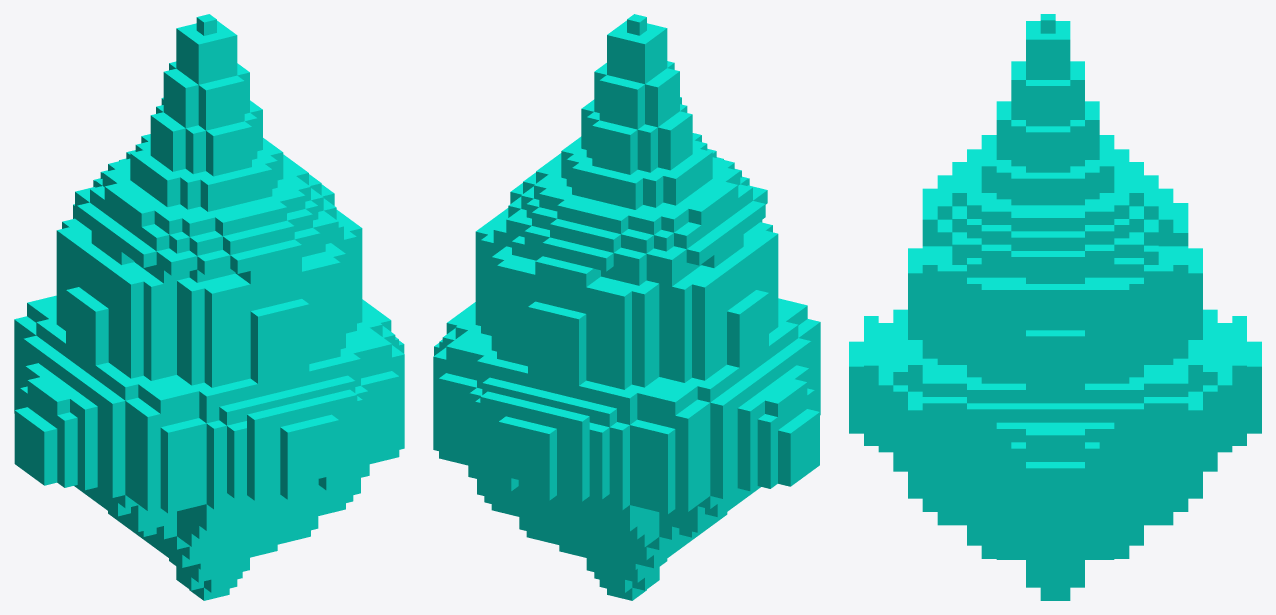
The model's file is Iceflower-8.obj.
The picture shows the model from 3 angles, left to right: view 1: azimuth 30°, elevation 25°; view 2: azimuth 150°, elevation 25°; view 3: azimuth 270°, elevation 25°; orthographic projection.
Size of the model in its own units: 2.8 by 4.3 by 2.8.
Materials: 1 (1 with a texture image).
